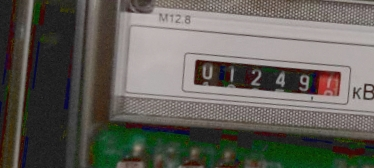0: (200, 60, 215, 81)
1: (225, 63, 237, 83)
2: (248, 66, 264, 88)
4: (273, 68, 287, 89)
7: (321, 70, 336, 90)
9: (296, 71, 311, 94)
screen: (172, 44, 352, 111)
